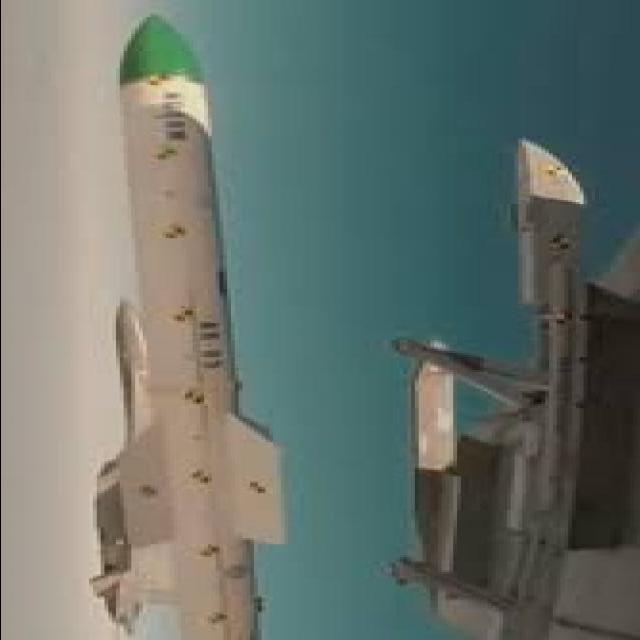missile: (87, 8, 294, 640)
